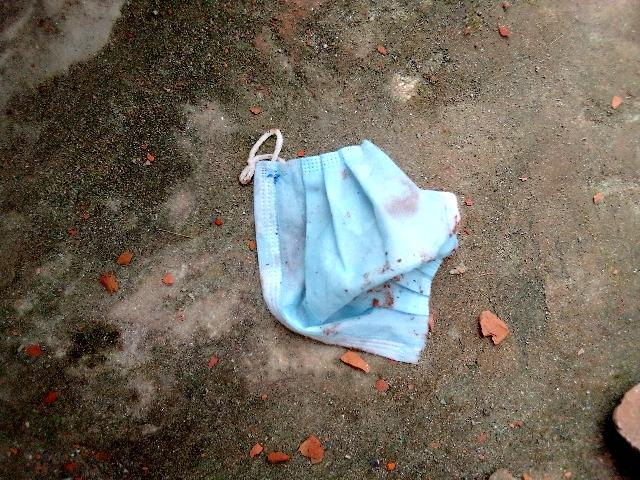mask: (248, 149, 468, 376)
